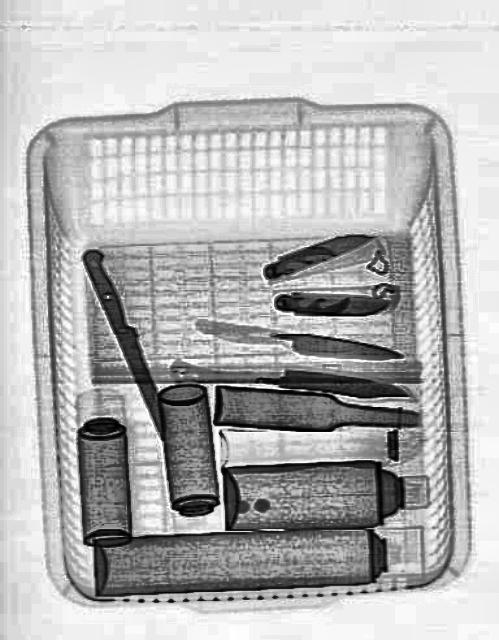Knife: (77, 241, 177, 439), (258, 218, 378, 284), (270, 325, 402, 367), (265, 364, 409, 402), (272, 288, 392, 318)
